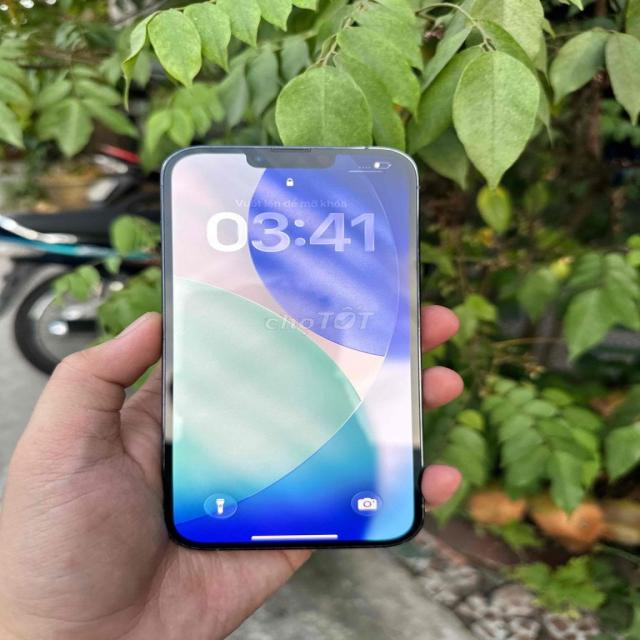gen_12_13: (154, 146, 426, 558)
